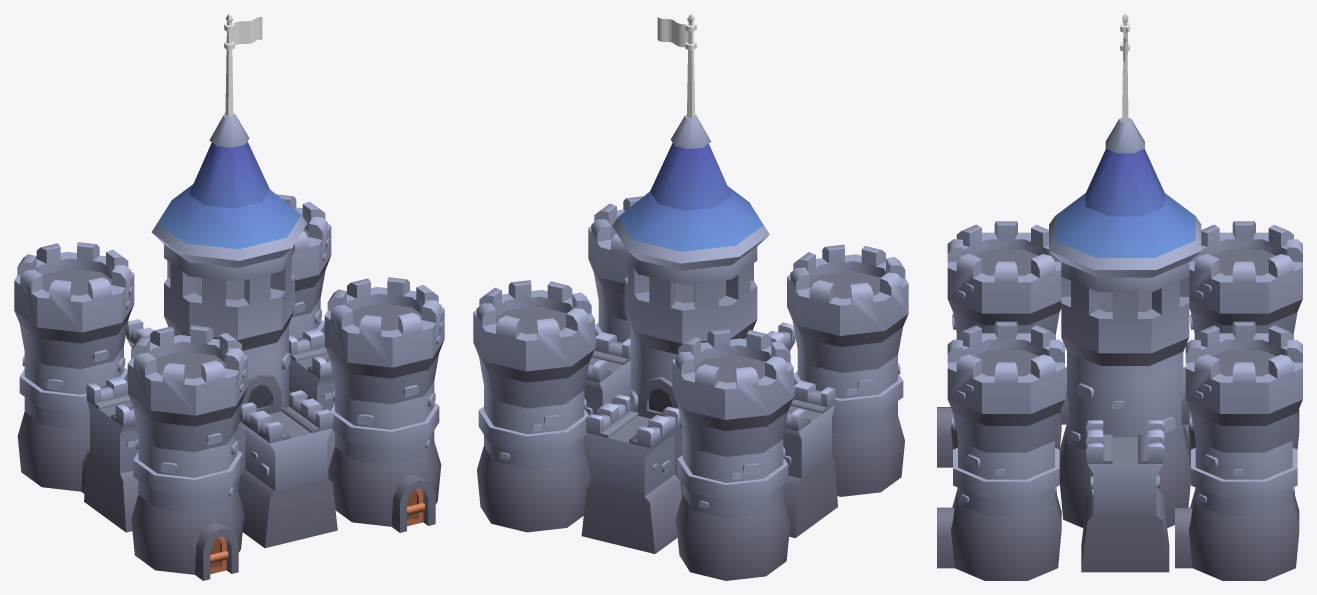
3 views of the same model, side by side, from view 1: azimuth 30°, elevation 25°; view 2: azimuth 150°, elevation 25°; view 3: azimuth 270°, elevation 25° (orthographic). The views are drawn at different scales.
Visible parts, largest first — view 1: tower-complete-small (×4), tower-complete-large, castle-wall (×3), flag-high; view 2: tower-complete-small (×4), tower-complete-large, castle-wall (×3), flag-high; view 3: tower-complete-small (×4), tower-complete-large, castle-wall, flag-high.
Part boxes in pixels (<box>): tower-complete-small (×4): <box>14,194,444,580</box>; tower-complete-large: <box>151,113,307,490</box>; castle-wall (×3): <box>84,328,337,548</box>; flag-high: <box>224,14,262,116</box>; tower-complete-small (×4): <box>473,196,908,580</box>; tower-complete-large: <box>612,114,769,495</box>; castle-wall (×3): <box>581,332,837,553</box>; flag-high: <box>657,14,696,117</box>; tower-complete-small (×4): <box>937,221,1302,580</box>; tower-complete-large: <box>1049,117,1201,527</box>; castle-wall: <box>1081,420,1169,572</box>; flag-high: <box>1120,14,1129,121</box>.
Bounding box in the file's own units: 2.4 × 3.69 × 2.47.
2 materials, 1 textured.
